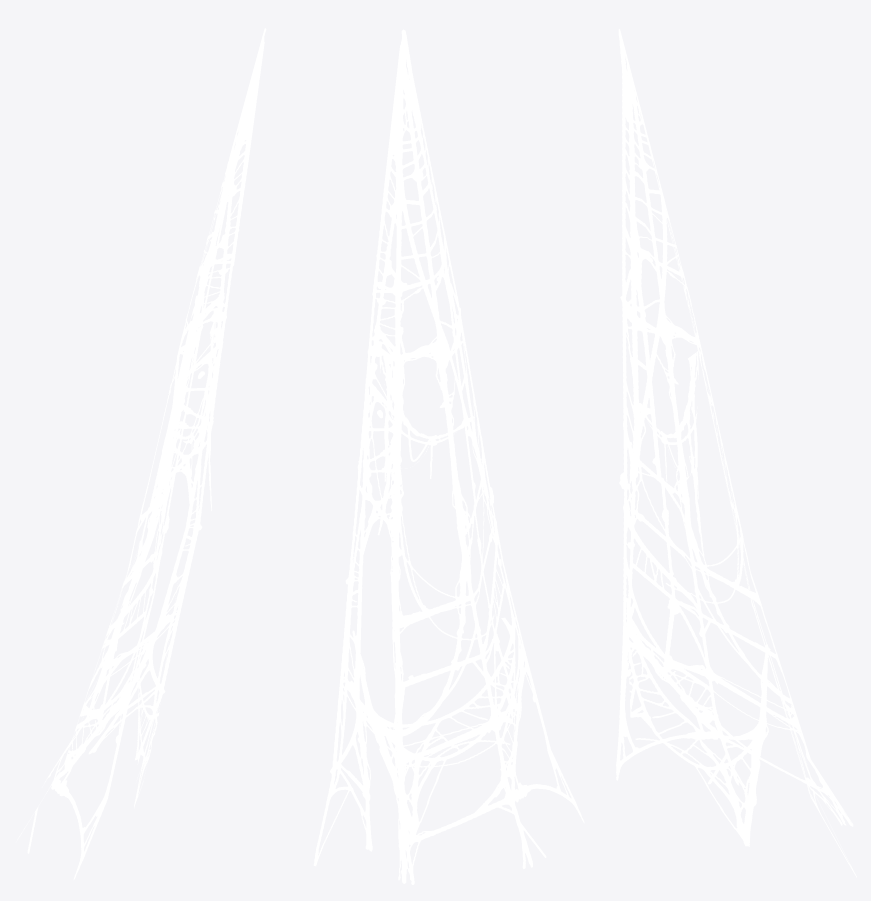
The picture shows the model from 3 angles, left to right: view 1: azimuth 30°, elevation 25°; view 2: azimuth 150°, elevation 25°; view 3: azimuth 270°, elevation 25°; orthographic projection. The views are drawn at different scales.
Parts seen in each view (by area): view 1: SM_Cob_Web_01_LOD0; view 2: SM_Cob_Web_01_LOD0; view 3: SM_Cob_Web_01_LOD0.
Part boxes in pixels (x1,y1,x2,y2): SM_Cob_Web_01_LOD0: (16, 28, 266, 879); SM_Cob_Web_01_LOD0: (313, 29, 584, 884); SM_Cob_Web_01_LOD0: (616, 29, 856, 877).
Size of the model in its own units: 1 by 4.05 by 1.
1 material, 1 textured.
